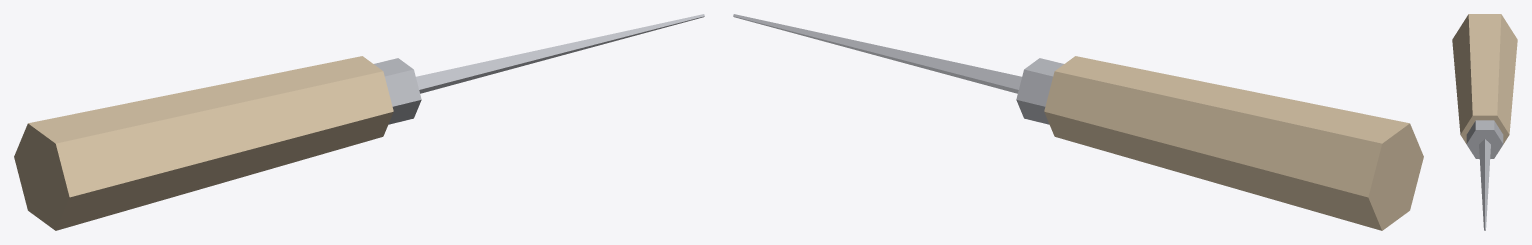
File: prop-scoring-awl-tl1.fbx
3 views of the same model, side by side, from view 1: azimuth 30°, elevation 25°; view 2: azimuth 150°, elevation 25°; view 3: azimuth 270°, elevation 25° (orthographic). The views are drawn at different scales.
Parts seen in each view (by area): view 1: prop-scoring-awl-tl1; view 2: prop-scoring-awl-tl1; view 3: prop-scoring-awl-tl1.
Boxes of the visible parts, x1,y1,x2,y2 form: prop-scoring-awl-tl1: (14, 14, 704, 230); prop-scoring-awl-tl1: (733, 14, 1423, 230); prop-scoring-awl-tl1: (1452, 14, 1517, 230).
Bounding box in the file's own units: 22 × 2.77 × 3.2.
